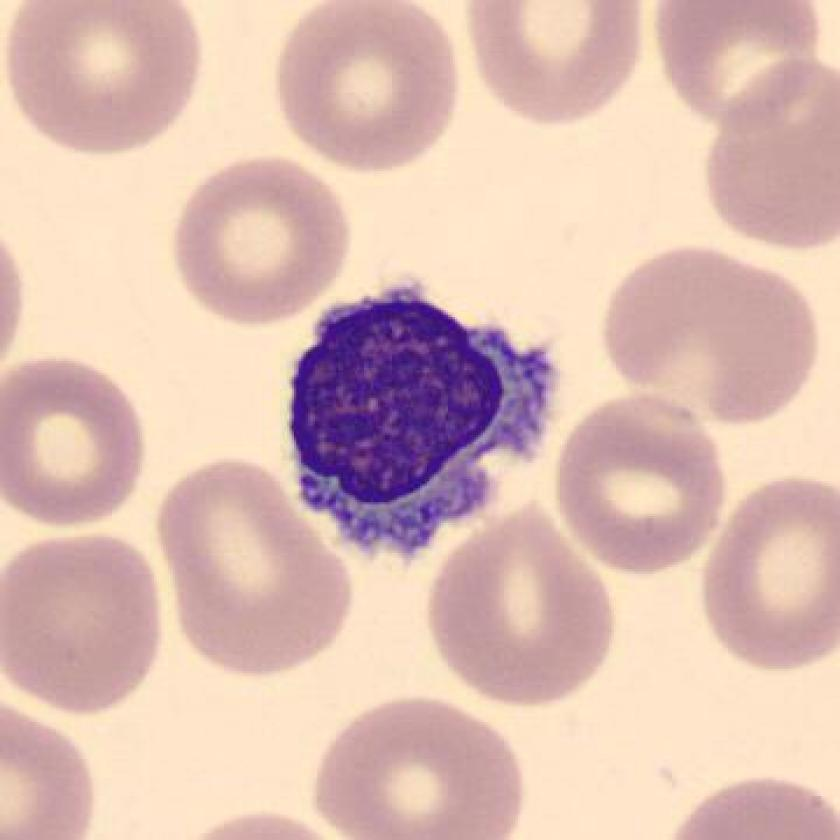lymphocyte: (262, 265, 575, 579)
